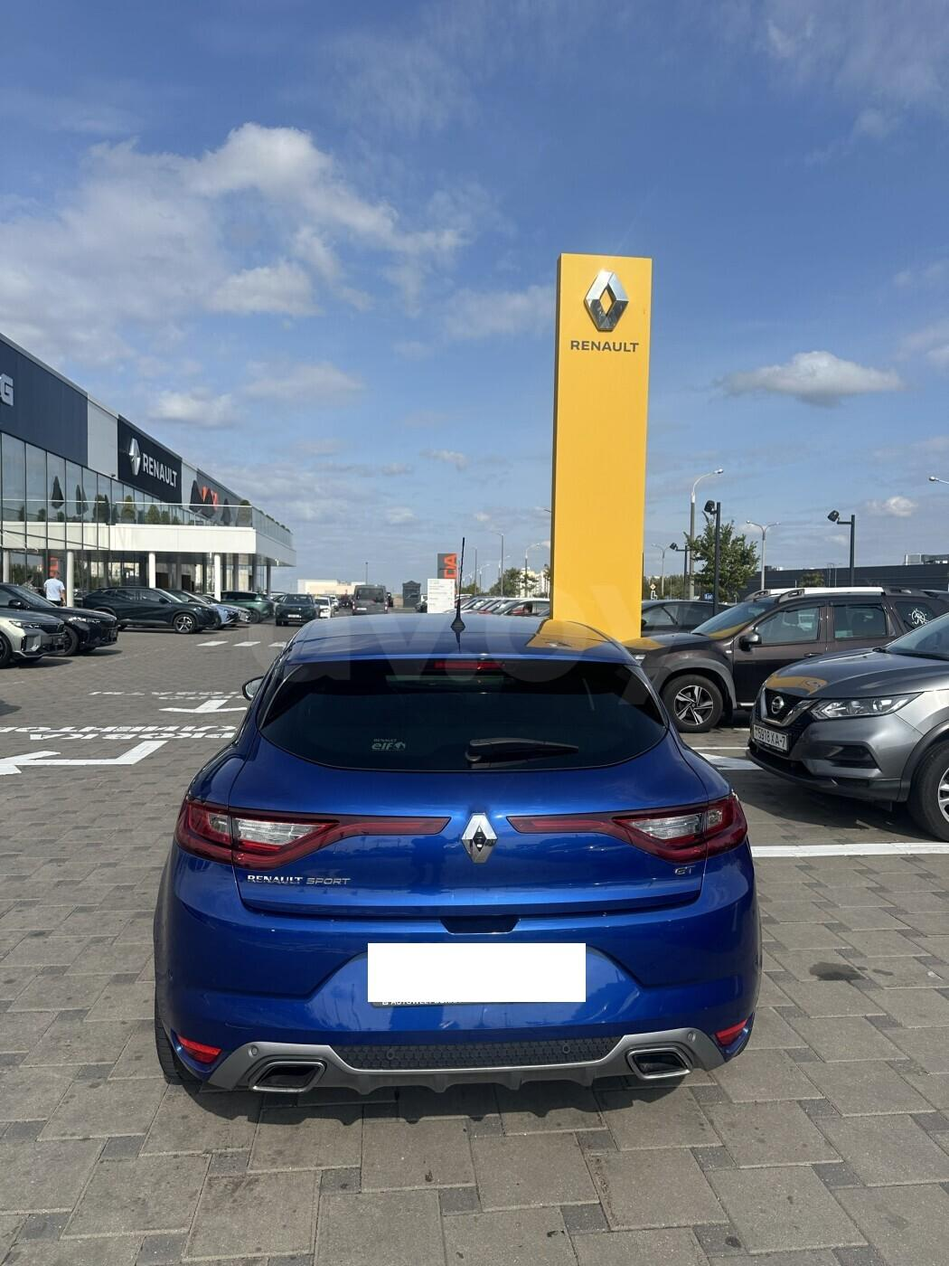Megane_2016-2020: (139, 608, 775, 1141)
